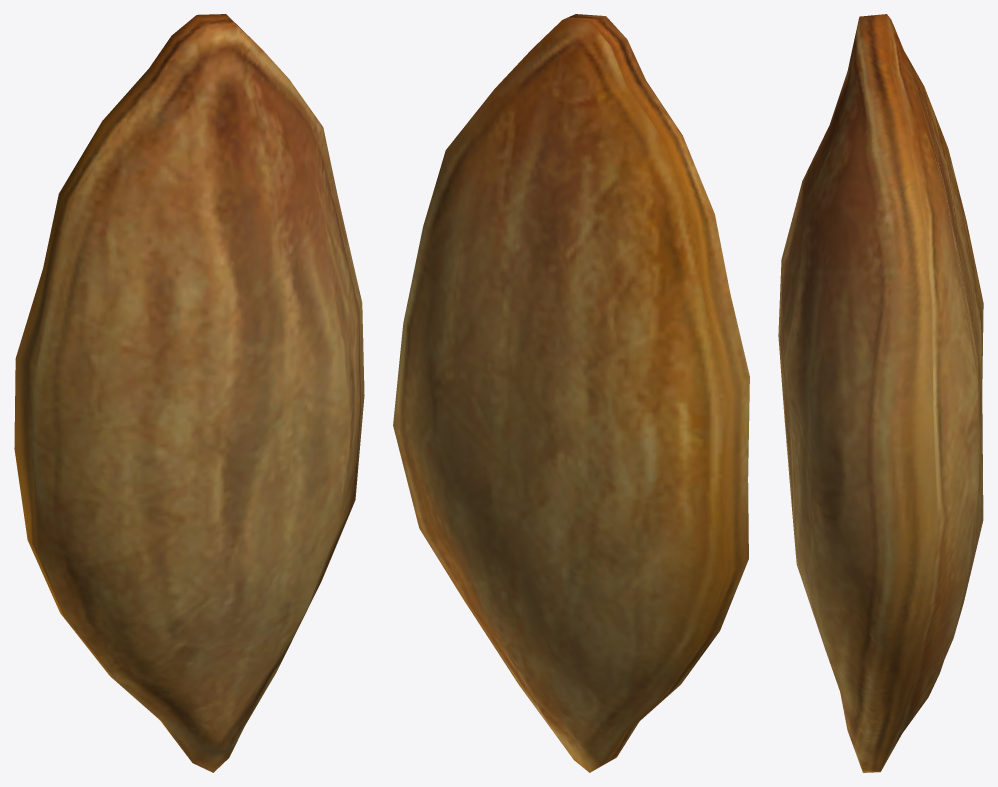
Rendered from seed.glb.
3 renders of one model, left to right at view 1: azimuth 30°, elevation 25°; view 2: azimuth 150°, elevation 25°; view 3: azimuth 270°, elevation 25°, orthographic.
Visible parts, largest first — view 1: Object_2; view 2: Object_2; view 3: Object_2.
Part boxes in pixels (x1,y1,x2,y2): Object_2: [14, 14, 364, 772]; Object_2: [393, 14, 749, 772]; Object_2: [778, 14, 983, 772].
Size of the model in its own units: 0.1111 by 0.2414 by 0.0593.
1 material, 1 textured.
